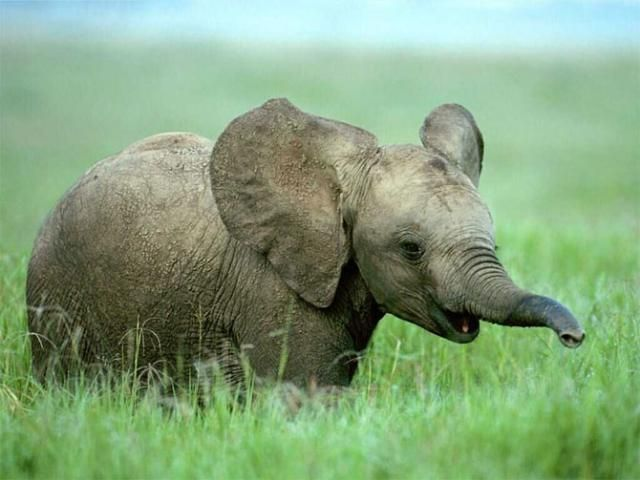elephant: (21, 87, 604, 454)
